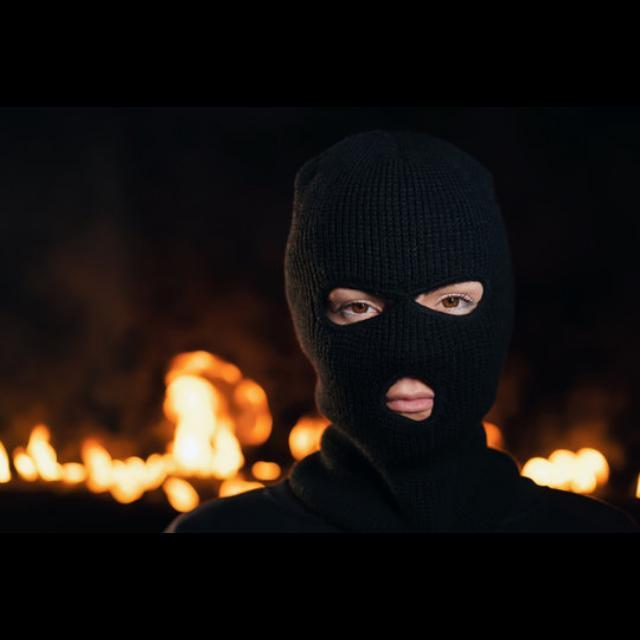criminal: (149, 133, 640, 640)
